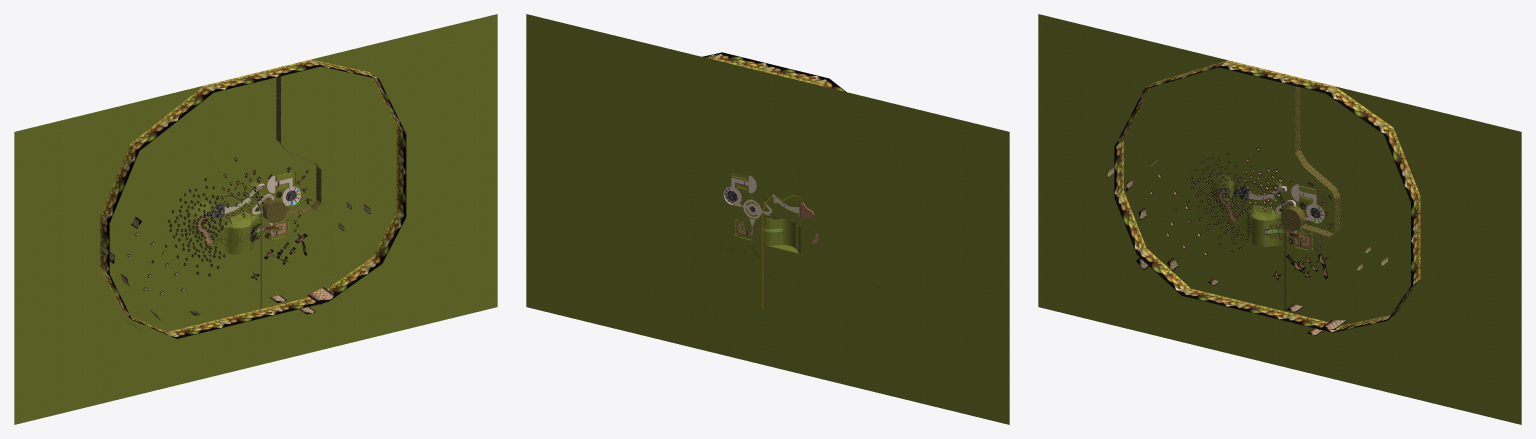
The picture shows the model from 3 angles, left to right: view 1: azimuth 30°, elevation 25°; view 2: azimuth 150°, elevation 25°; view 3: azimuth 330°, elevation 25°; orthographic projection.
Visible parts, largest first — view 1: y_SKP__grass, y_SKP__background, y_SKP__edera, y_SKP__2dtree4, y_SKP__background1, y_SKP__oak, y_SKP__garden_road1; view 2: y_SKP__grass, y_SKP__background, y_SKP__garden_road1; view 3: y_SKP__grass, y_SKP__background, y_SKP__edera, y_SKP__2dtree4, y_SKP__background1, y_SKP__oak, y_SKP__garden_road1.
Boxes of the visible parts, x1,y1,x2,y2 form: y_SKP__grass: (14,14,497,424); y_SKP__background: (100,59,406,338); y_SKP__edera: (250,76,321,238); y_SKP__2dtree4: (151,178,227,276); y_SKP__background1: (101,202,370,329); y_SKP__oak: (250,174,307,280); y_SKP__garden_road1: (252,175,300,225); y_SKP__grass: (526,14,1009,424); y_SKP__background: (702,52,845,91); y_SKP__garden_road1: (724,175,771,225); y_SKP__grass: (1038,14,1521,424); y_SKP__background: (1114,60,1420,332); y_SKP__edera: (1265,86,1340,236); y_SKP__2dtree4: (1174,153,1249,252); y_SKP__background1: (1107,159,1387,335); y_SKP__oak: (1264,181,1328,280); y_SKP__garden_road1: (1276,184,1323,232).
Bounding box in the file's own units: 660341 × 382719 × 32129.
Materials: 61 (61 with a texture image).
